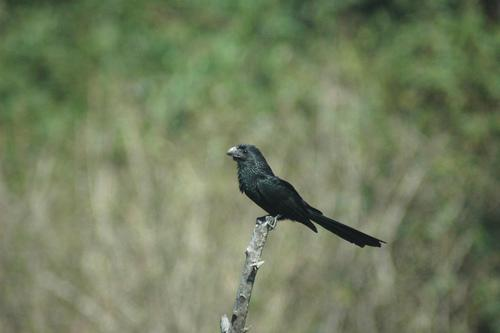004.Groove_billed_Ani: (222, 141, 384, 248)
